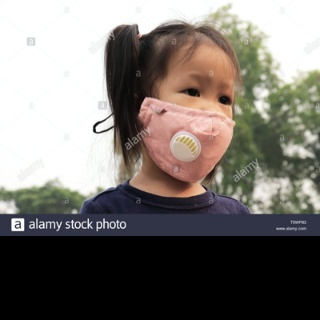with_mask: (138, 70, 236, 184)
